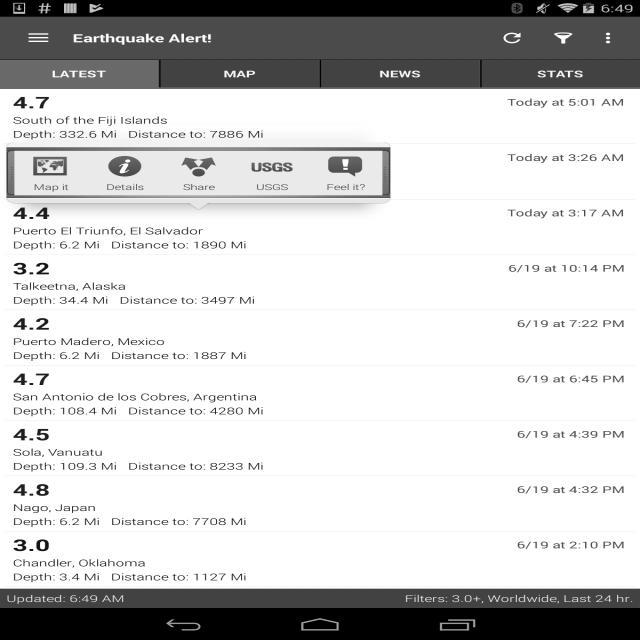ImageButton: (9, 17, 68, 59)
ImageView: (589, 22, 631, 54)
TextView: (13, 169, 627, 182), (13, 183, 627, 196), (13, 224, 627, 237), (13, 238, 627, 251), (13, 335, 627, 348), (13, 349, 627, 362), (13, 390, 627, 403), (13, 404, 627, 417), (13, 501, 627, 514), (13, 515, 627, 528), (13, 556, 627, 569), (13, 570, 627, 583), (13, 114, 627, 126), (13, 128, 627, 140), (13, 280, 627, 292), (13, 294, 627, 306), (13, 446, 627, 458), (13, 460, 627, 472), (398, 589, 640, 608), (0, 589, 131, 608), (73, 30, 212, 46), (487, 22, 538, 54), (538, 22, 588, 54), (507, 151, 625, 164), (507, 206, 625, 219), (507, 96, 625, 108), (508, 262, 625, 274), (517, 317, 625, 330), (517, 372, 625, 385), (517, 483, 625, 496), (517, 538, 625, 551), (517, 428, 625, 440), (13, 91, 50, 113), (13, 202, 50, 224), (13, 257, 50, 279), (13, 368, 50, 390), (13, 423, 50, 445), (13, 534, 50, 556), (13, 147, 50, 168), (13, 313, 50, 334), (13, 479, 50, 500), (52, 67, 106, 80), (537, 67, 584, 80), (379, 67, 421, 80), (223, 67, 256, 80)
